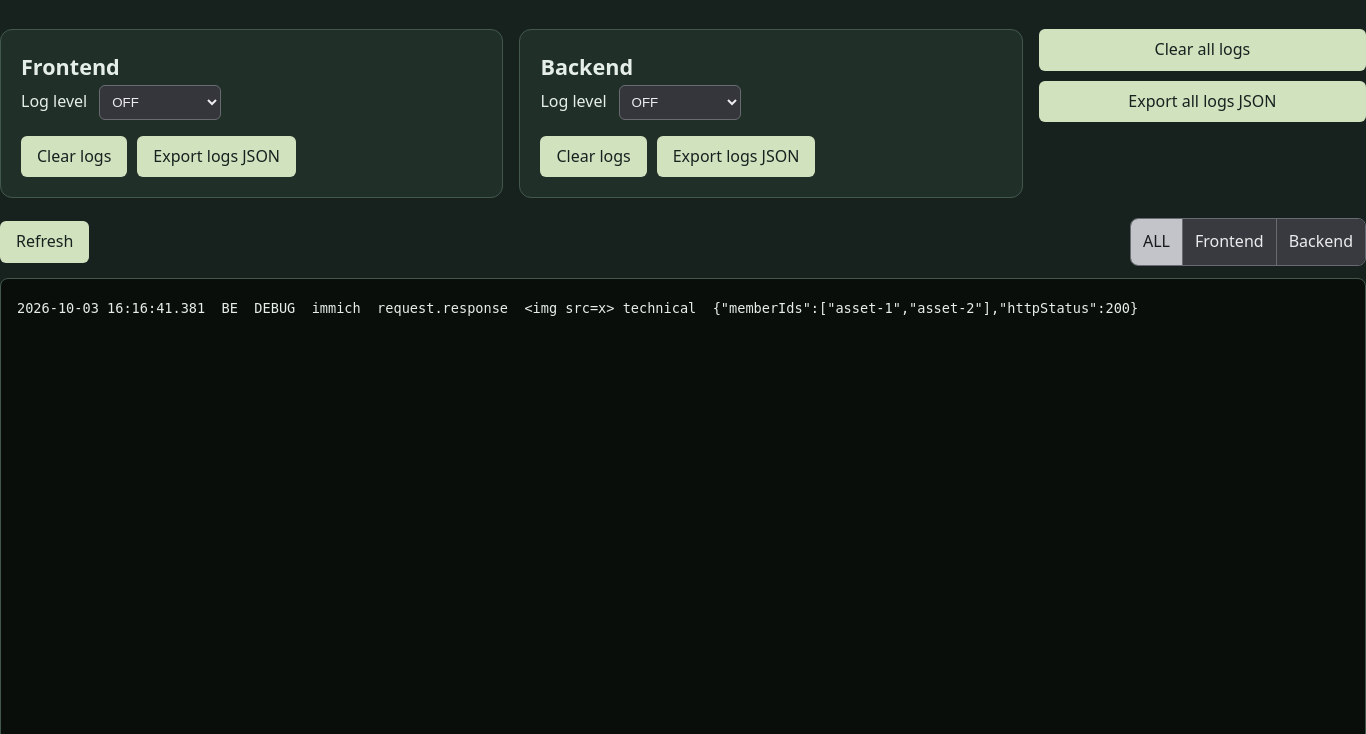
Test: still clears Backend when Frontend clear fails, and clears the snapshot after DELETE even if its GET fails
The image size is (1366, 734).
Click the button "Clear all logs" at point(1202, 50), box [1039, 29, 1365, 71]
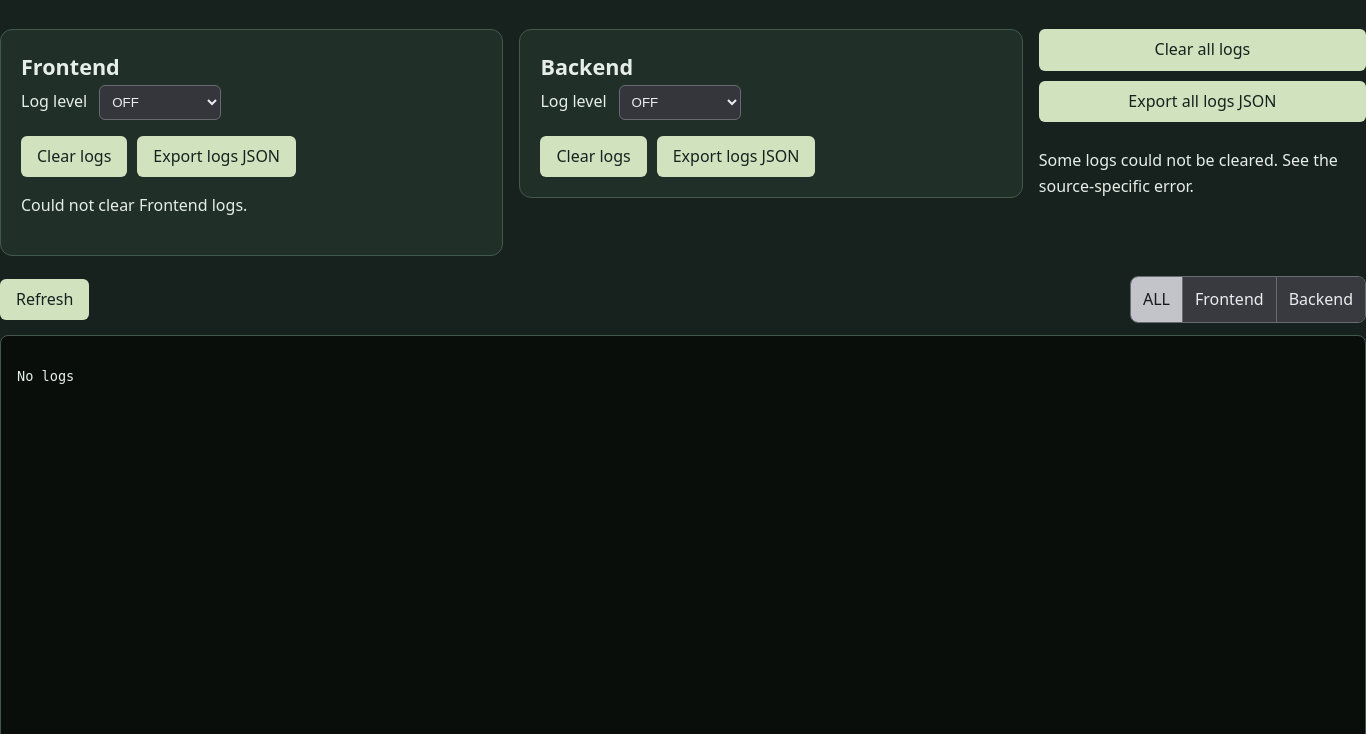
Result: the text "Could not clear Frontend logs." is shown at [21, 194, 247, 216]
Result: the text "Some logs could not be cleared. See the source-specific error." is shown at [1039, 148, 1365, 199]
Click the button "Refresh" at point(45, 300), box [0, 279, 89, 320]
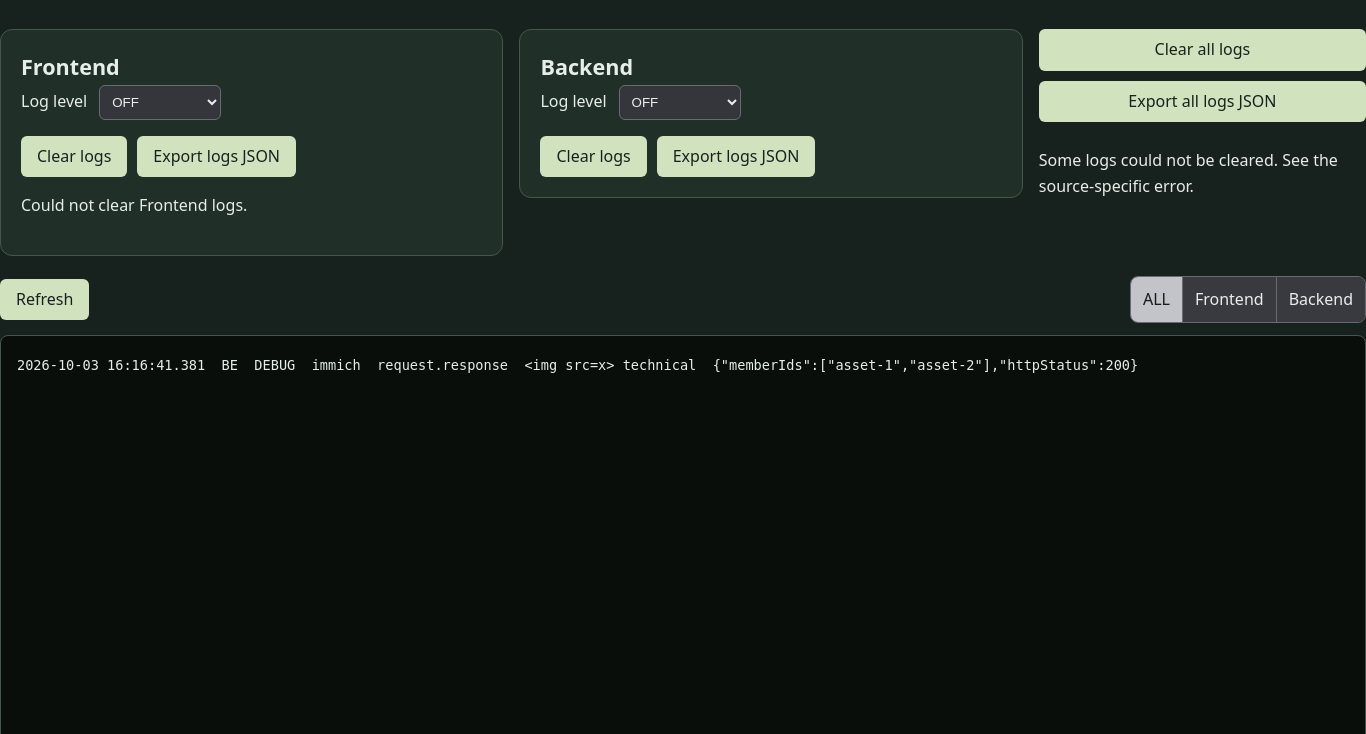
Click the 2nd button "Clear logs" at point(594, 156), box [540, 136, 647, 177]
(page scrolled)
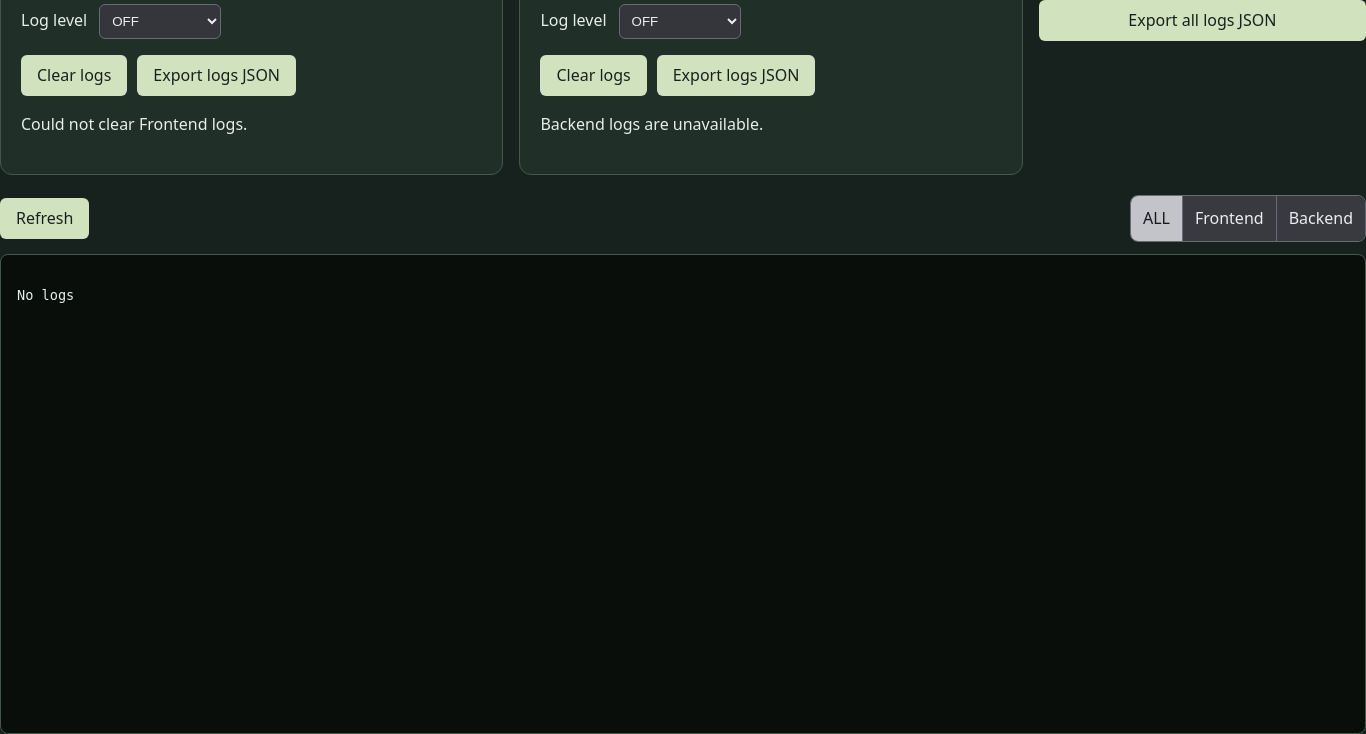
Result: the element with class "developer-log-console" reads "No logs" at [17, 287, 74, 303]
Result: the text "Backend logs are unavailable." is shown at [540, 113, 763, 135]
